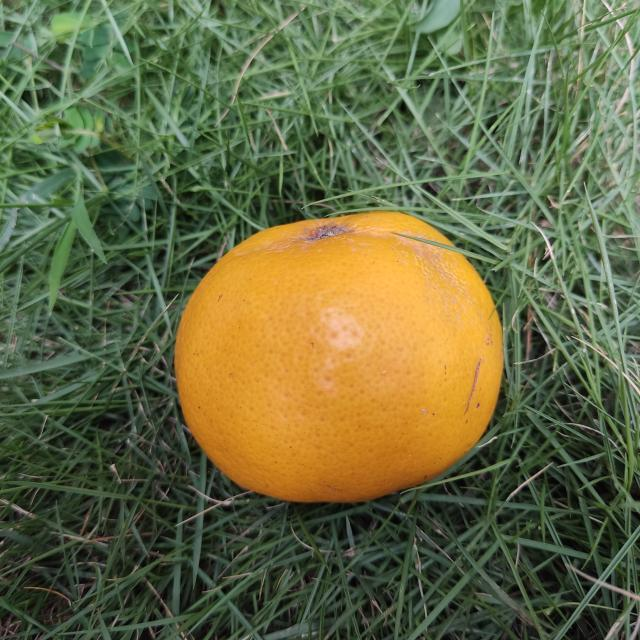orange: (172, 210, 507, 510)
